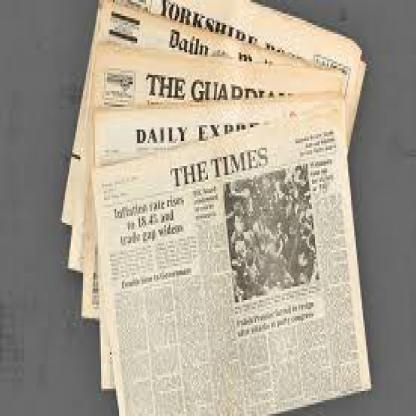paper: (89, 98, 369, 414), (65, 0, 360, 278), (91, 93, 339, 389), (75, 37, 333, 312), (59, 0, 365, 223)
